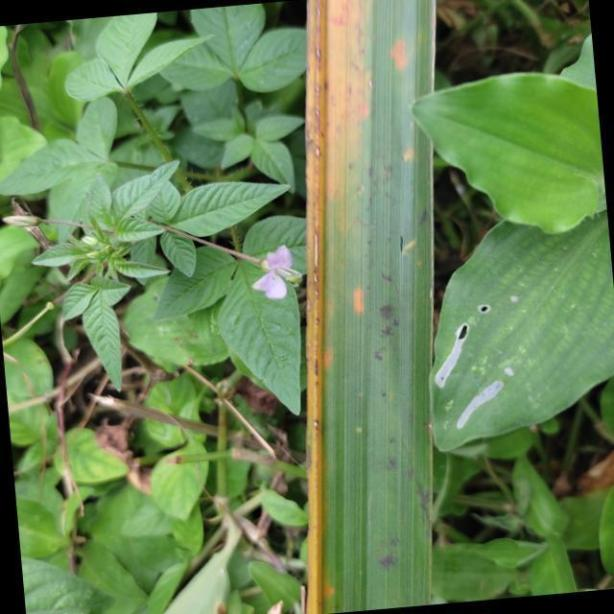Megnesium: (304, 0, 436, 614)
